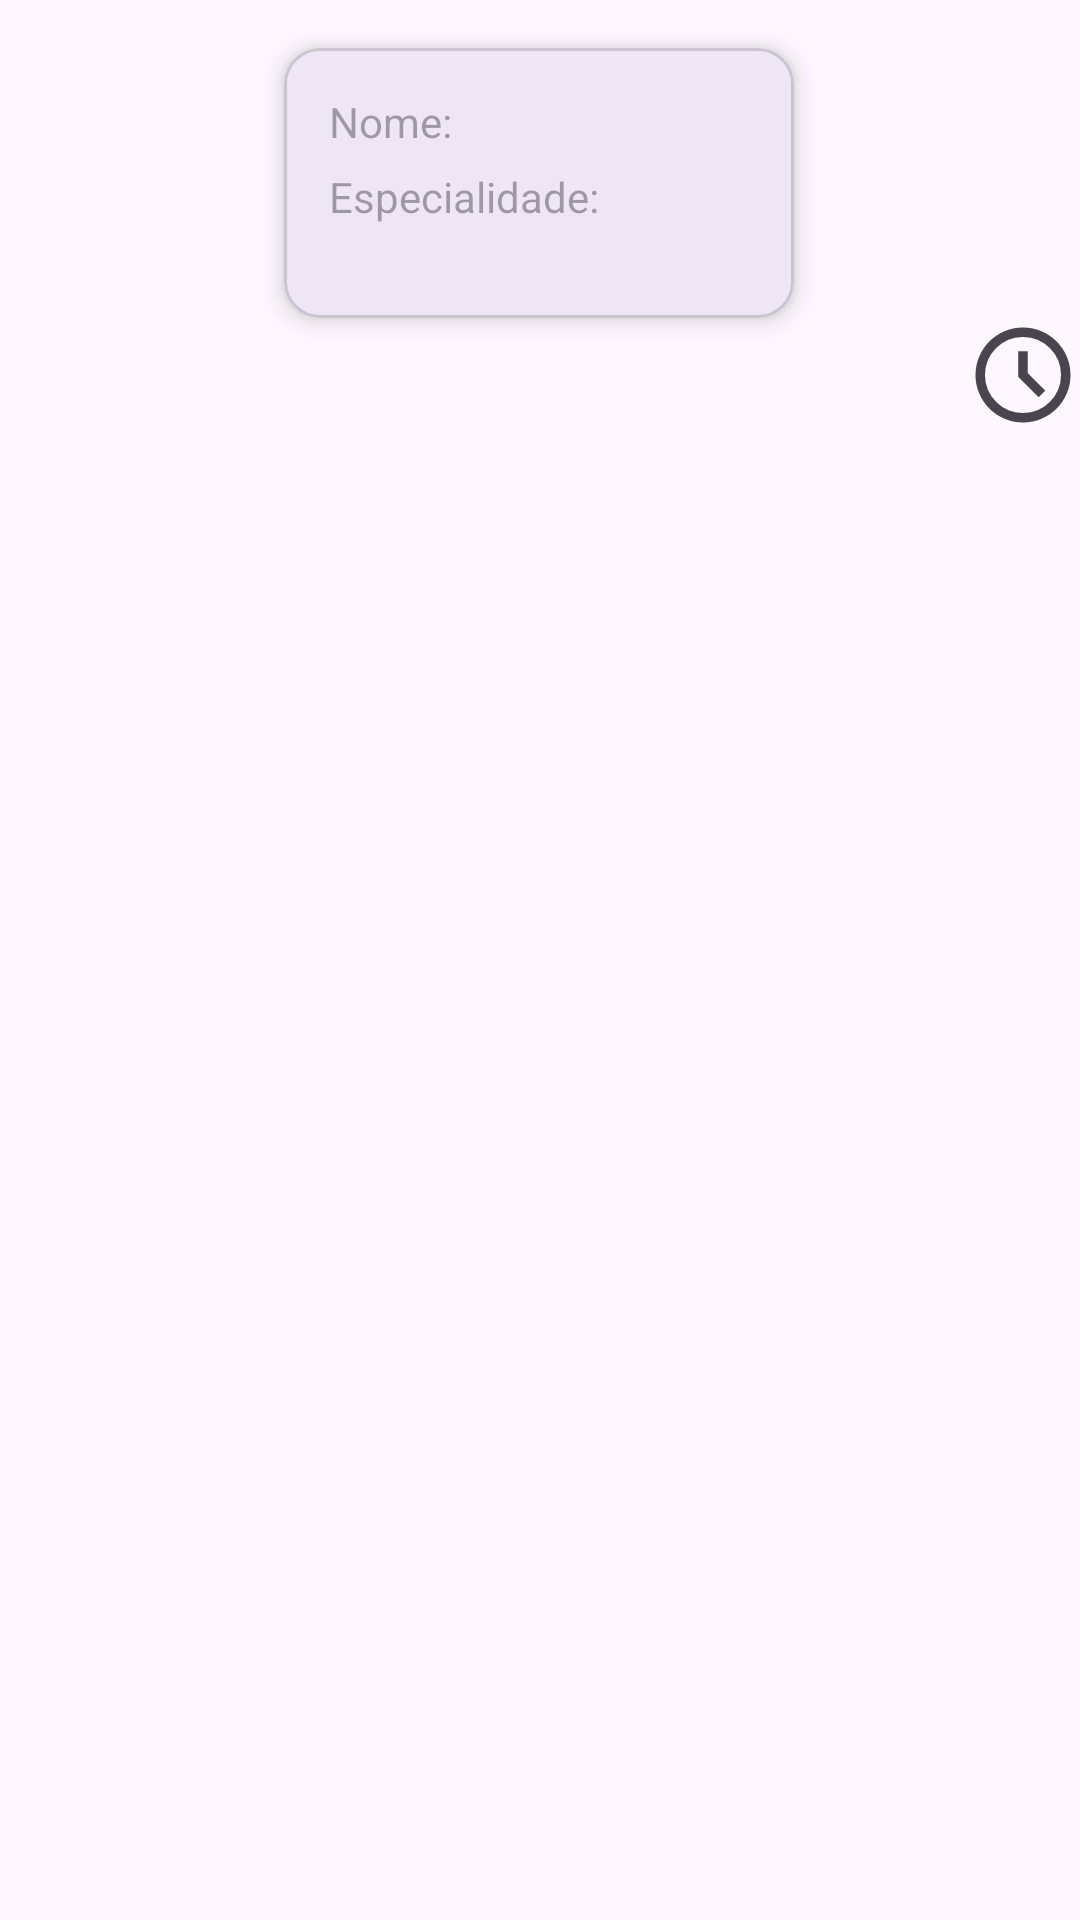

Screen size 1080 × 1920. Icon name, then its box in pixels as (x1, y1, x2, y2):
clock: (975, 327, 1071, 423)
